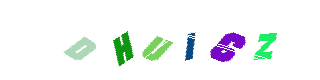6: (164, 0, 244, 80)
D: (67, 0, 147, 80)
H: (83, 0, 163, 80)
I: (150, 0, 230, 80)
U: (118, 0, 198, 80)
Z: (187, 0, 267, 80)
